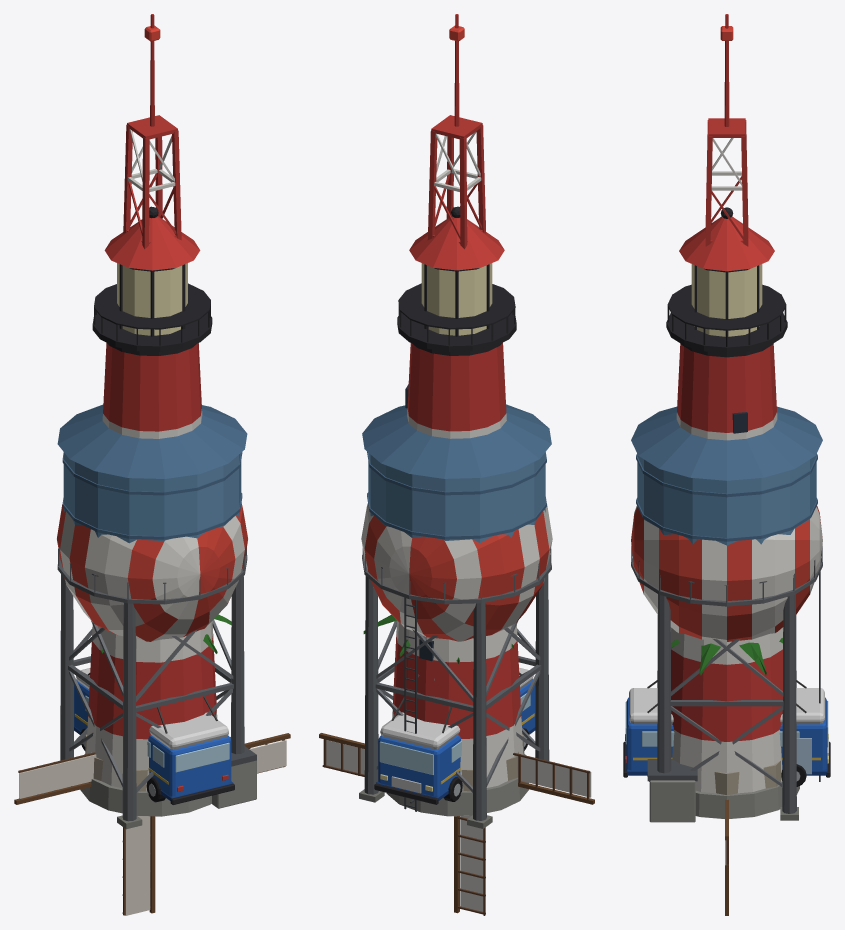
File: models.glb
3 views of the same model, side by side, from view 1: azimuth 30°, elevation 25°; view 2: azimuth 150°, elevation 25°; view 3: azimuth 270°, elevation 25° (orthographic).
Parts seen in each view (by area): view 1: lm_watertower, lm_lighthouse, bus, lm_radiotower, lm_windmillBlades; view 2: lm_watertower, lm_lighthouse, bus, lm_windmillBlades, lm_radiotower; view 3: lm_lighthouse, lm_watertower, bus, lm_radiotower, lm_windmill, prop_palm_0, lm_windmillBlades.
Boxes of the visible parts, x1,y1,x2,y2 form: lm_watertower: (57,404,247,829); lm_lighthouse: (80,206,217,816); bus: (57,503,247,804); lm_radiotower: (123,14,256,808); lm_windmillBlades: (14,733,290,915); lm_watertower: (359,404,551,828); lm_lighthouse: (386,206,528,816); bus: (361,503,552,804); lm_windmillBlades: (319,733,594,915); lm_radiotower: (427,14,486,249); lm_lighthouse: (666,207,799,818); lm_watertower: (631,406,822,820); bus: (623,506,830,786); lm_radiotower: (647,14,748,822); lm_windmill: (714,760,780,794); prop_palm_0: (671,638,782,675); lm_windmillBlades: (725,799,728,915).
Bounding box in the file's own units: 15.2 × 47.6 × 9.92.
